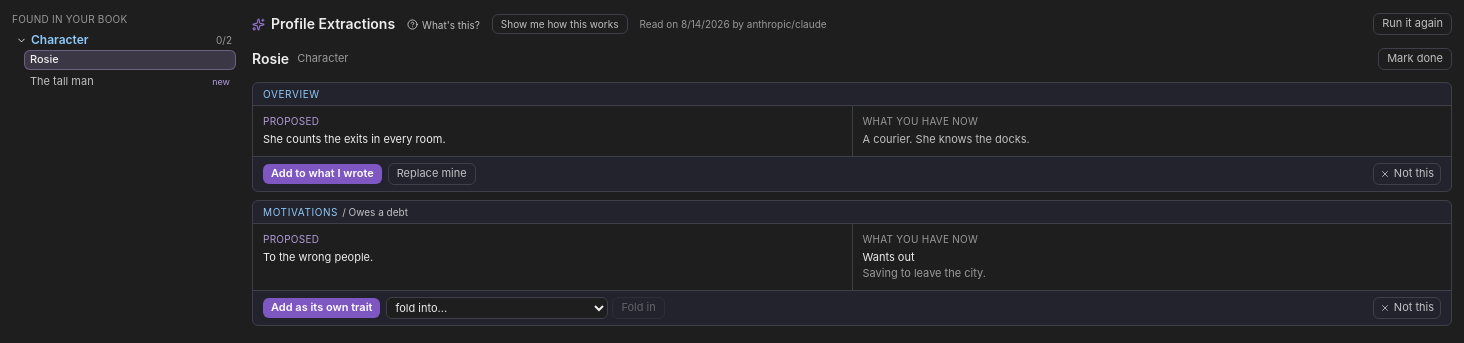
the review screen › REQUIRES the writer to say which trait a fold goes into
The image size is (1464, 343).
Expected: the button "Fold in" is disabled, [612,297,665,319]
Select "Wants out -- Saving to leave the city." in the dropdown with test id "extractor-merge-into" at (498, 308), box [386,297,608,319]
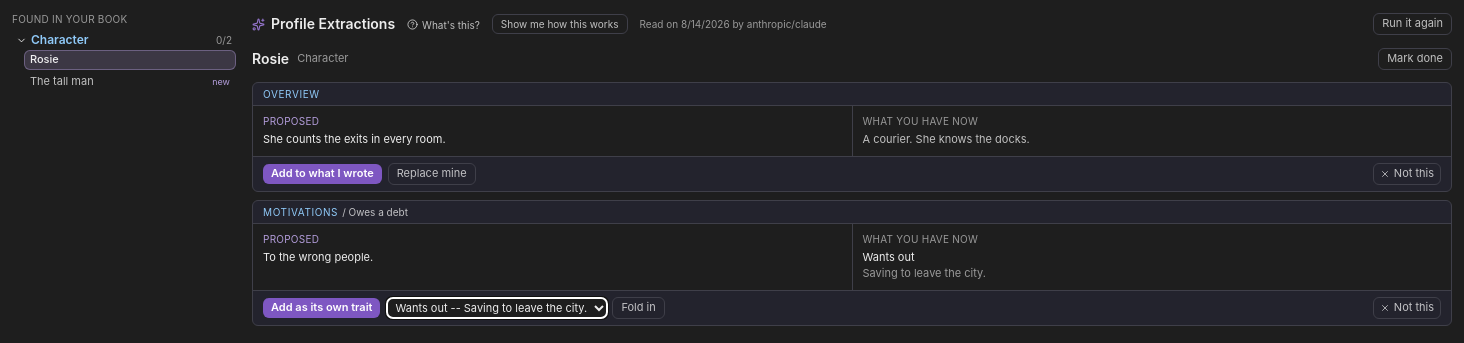
Result: the button "Fold in" is enabled at [612,297,665,319]
